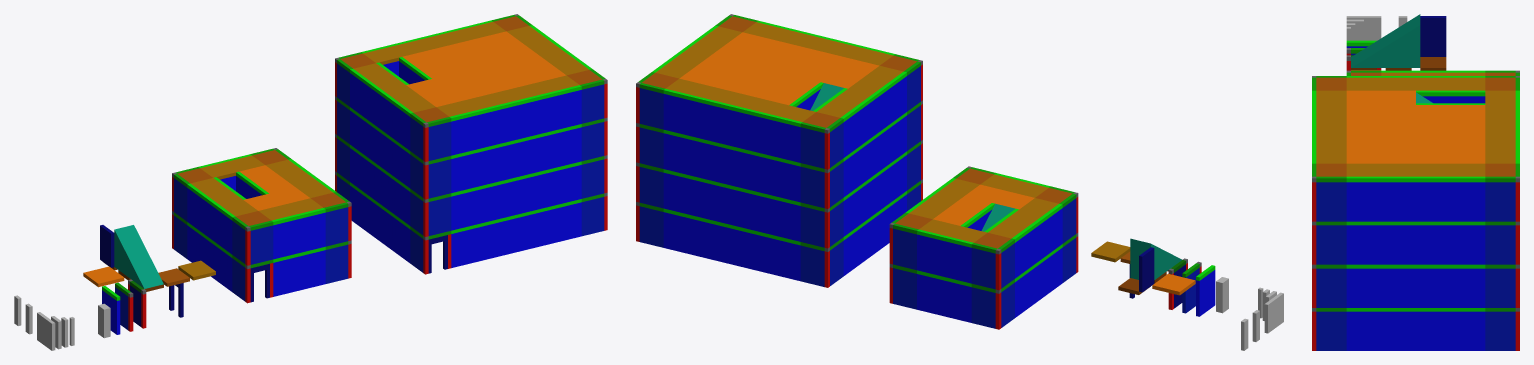
The model's file is modular_walls.gltf.
The picture shows the model from 3 angles, left to right: view 1: azimuth 30°, elevation 25°; view 2: azimuth 150°, elevation 25°; view 3: azimuth 270°, elevation 25°; orthographic projection. The views are drawn at different scales.
Visible parts, largest first — view 1: Cube.195, Cube.027, Cube.158, Cube.318, Cube.401, Cube.539, Cube.136, Cube.137, Cube.281, Cube.282, Cube.159, Cube.189 (+57 smaller); view 2: Cube.146, Cube.319, Cube.167, Cube.291, Cube.160, Cube.404, Cube.510, Cube.542, Cube.036, Cube.147, Cube.168, Cube.215 (+62 smaller); view 3: Cube.195, Cube.566, Cube.592, Cube.595, Cube.611, Cube.345, Cube.371, Cube.374, Cube.390, Cube.346, Cube.347, Cube.372 (+84 smaller).
Part boxes in pixels (left/top/right/bottom): Cube.195: left=114, top=225, right=163, bottom=288; Cube.027: left=299, top=250, right=325, bottom=290; Cube.158: left=477, top=221, right=503, bottom=261; Cube.318: left=529, top=171, right=555, bottom=211; Cube.401: left=477, top=146, right=503, bottom=186; Cube.539: left=529, top=96, right=555, bottom=136; Cube.136: left=273, top=219, right=299, bottom=259; Cube.137: left=299, top=212, right=325, bottom=252; Cube.281: left=451, top=190, right=477, bottom=230; Cube.282: left=477, top=184, right=503, bottom=224; Cube.159: left=503, top=215, right=529, bottom=255; Cube.189: left=503, top=177, right=529, bottom=217; Cube.146: left=944, top=241, right=971, bottom=283; Cube.319: left=691, top=179, right=718, bottom=221; Cube.167: left=773, top=239, right=800, bottom=281; Cube.291: left=773, top=199, right=800, bottom=241; Cube.160: left=718, top=225, right=745, bottom=267; Cube.404: left=745, top=153, right=772, bottom=195; Cube.510: left=718, top=107, right=745, bottom=149; Cube.542: left=663, top=133, right=690, bottom=175; Cube.036: left=944, top=280, right=971, bottom=322; Cube.147: left=917, top=234, right=944, bottom=276; Cube.168: left=745, top=232, right=772, bottom=274; Cube.215: left=718, top=186, right=745, bottom=228; Cube.195: left=1351, top=14, right=1420, bottom=67; Cube.566: left=1346, top=225, right=1381, bottom=264; Cube.592: left=1346, top=182, right=1381, bottom=221; Cube.595: left=1450, top=225, right=1485, bottom=264; Cube.611: left=1450, top=182, right=1485, bottom=221; Cube.345: left=1346, top=311, right=1381, bottom=350; Cube.371: left=1346, top=268, right=1381, bottom=307; Cube.374: left=1450, top=311, right=1485, bottom=350; Cube.390: left=1450, top=268, right=1485, bottom=307; Cube.346: left=1381, top=311, right=1415, bottom=350; Cube.347: left=1416, top=311, right=1450, bottom=350; Cube.372: left=1381, top=268, right=1415, bottom=307.
Bounding box in the file's own units: 41.5 × 11 × 12.
